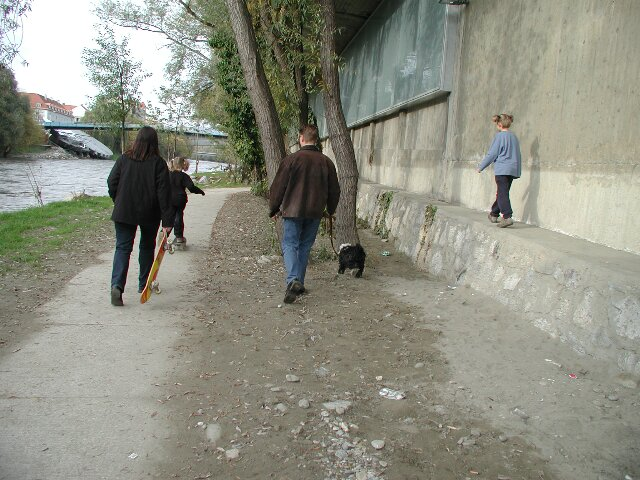person: (104, 123, 180, 309), (267, 125, 345, 303), (468, 109, 542, 230)
